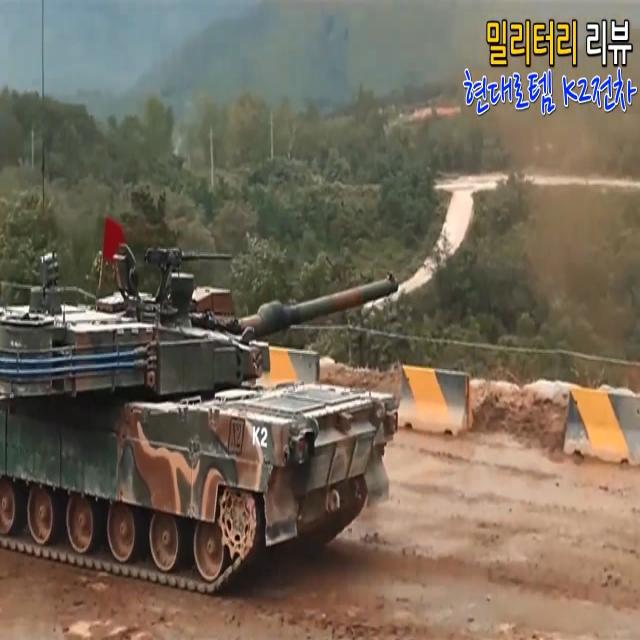korea tank: (1, 242, 400, 602)
